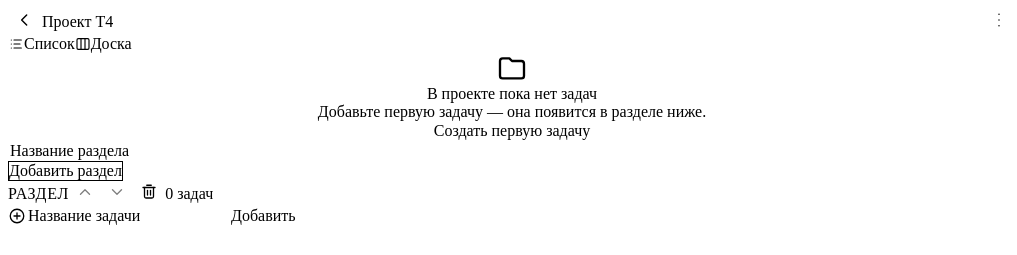
Test case: ProjectDetail — CRUD секций (E09.4) › пустой заголовок при переименовании — блокирующая ошибка у поля, раздел не меняется
The image size is (1017, 255).
Click the button "Раздел": x=39, y=194 [8,184,69,202]
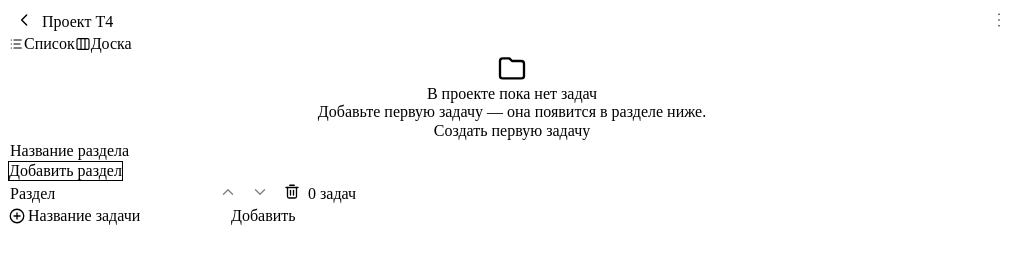
Clear the field named "Переименовать раздел «Раздел»": x=110, y=194 [8,184,212,204]
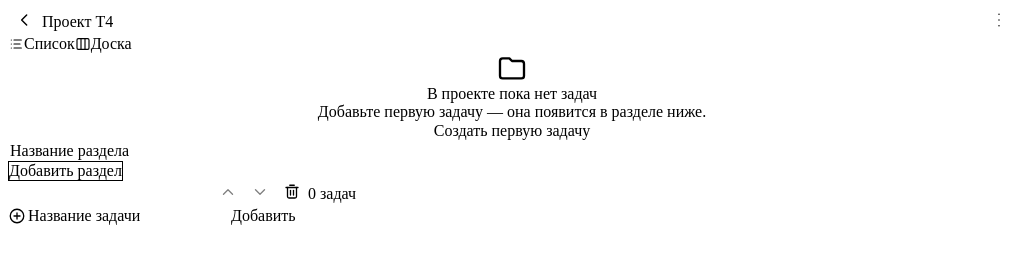
Press Tab
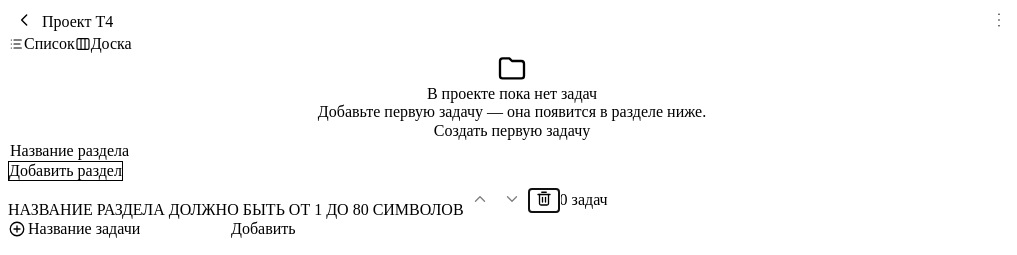
Result: the text "Название раздела должно быть от 1 до 80 символов" is shown at [8,201,464,219]
